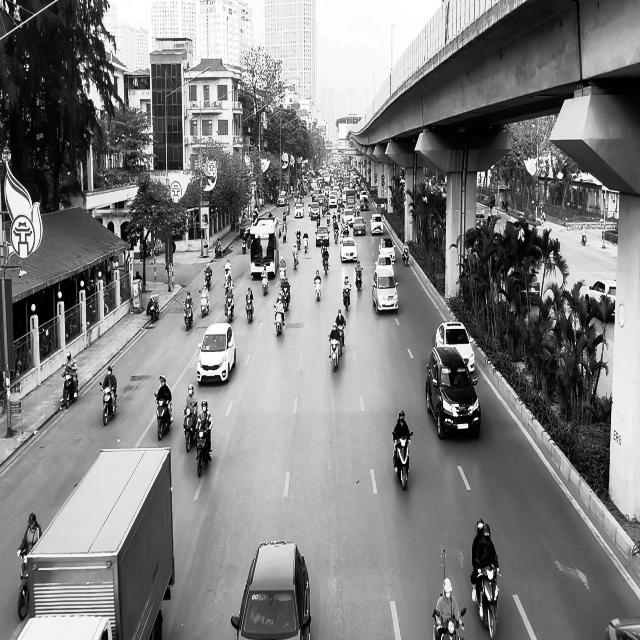bus: (250, 216, 280, 279)
car: (231, 540, 311, 640), (425, 345, 481, 439), (196, 322, 236, 384), (435, 320, 475, 372), (585, 279, 616, 321), (372, 268, 398, 314), (340, 237, 357, 262), (316, 226, 330, 246)
motorbike: (473, 560, 500, 638), (392, 430, 412, 490), (432, 607, 466, 639), (195, 422, 212, 477), (154, 392, 173, 440), (17, 548, 29, 621), (99, 382, 117, 426), (182, 406, 197, 452), (62, 372, 78, 409), (329, 334, 341, 372), (199, 286, 209, 318), (274, 304, 284, 336), (183, 300, 193, 331), (224, 292, 234, 322), (148, 296, 159, 322), (245, 296, 254, 324), (342, 284, 351, 310), (354, 265, 363, 291), (321, 249, 329, 274), (261, 271, 269, 296), (314, 277, 321, 301), (204, 270, 212, 290), (402, 248, 409, 267)
truck: (18, 446, 174, 639)
